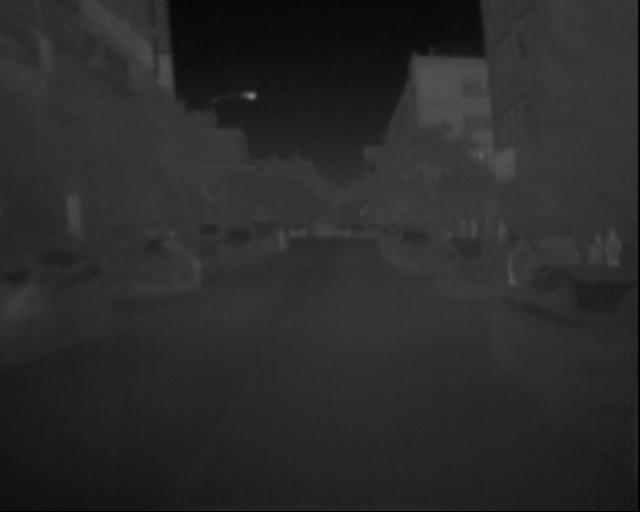person: (440, 212, 524, 256), (575, 225, 632, 265)
